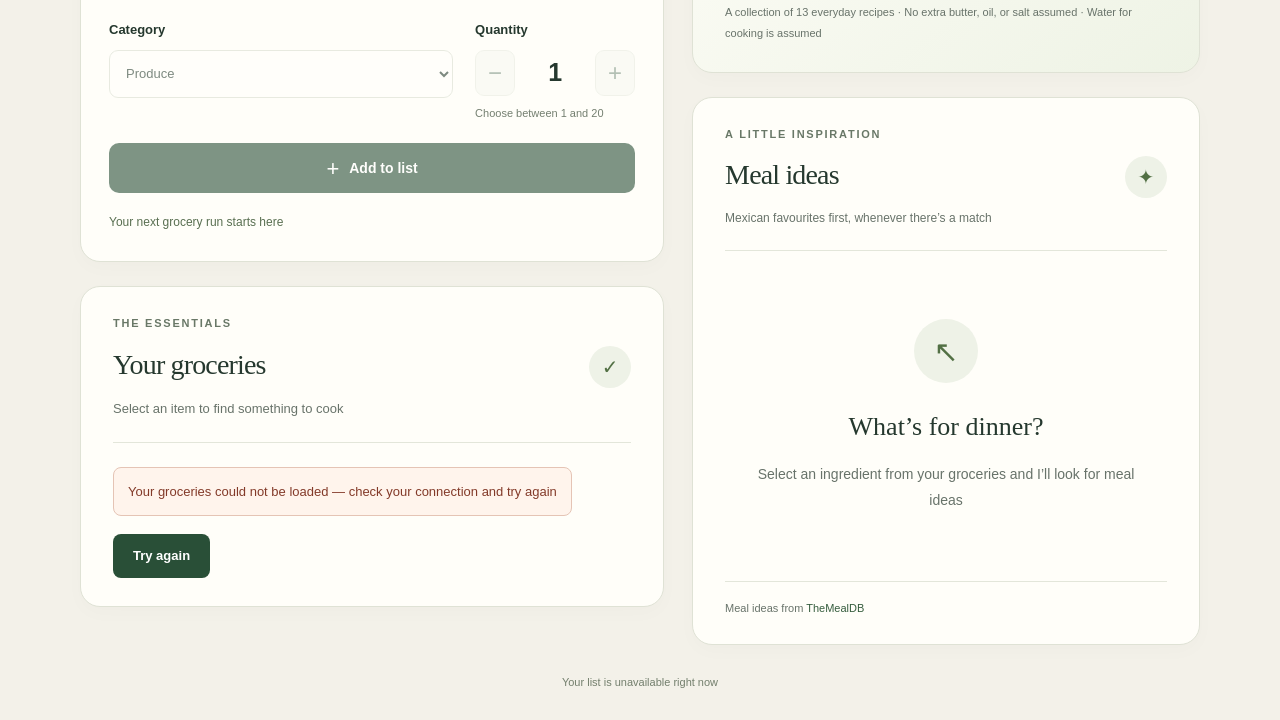
Test: a loading failure shows a retry instead of an empty list
(page scrolled)
Check: the message "Your groceries could not be loaded — check your connection and try again" is shown, box [113,467,572,516]
Check: the text "A fresh start" is not shown
Click the button "Try again". click: click(162, 556)
box: [113,534,210,578]
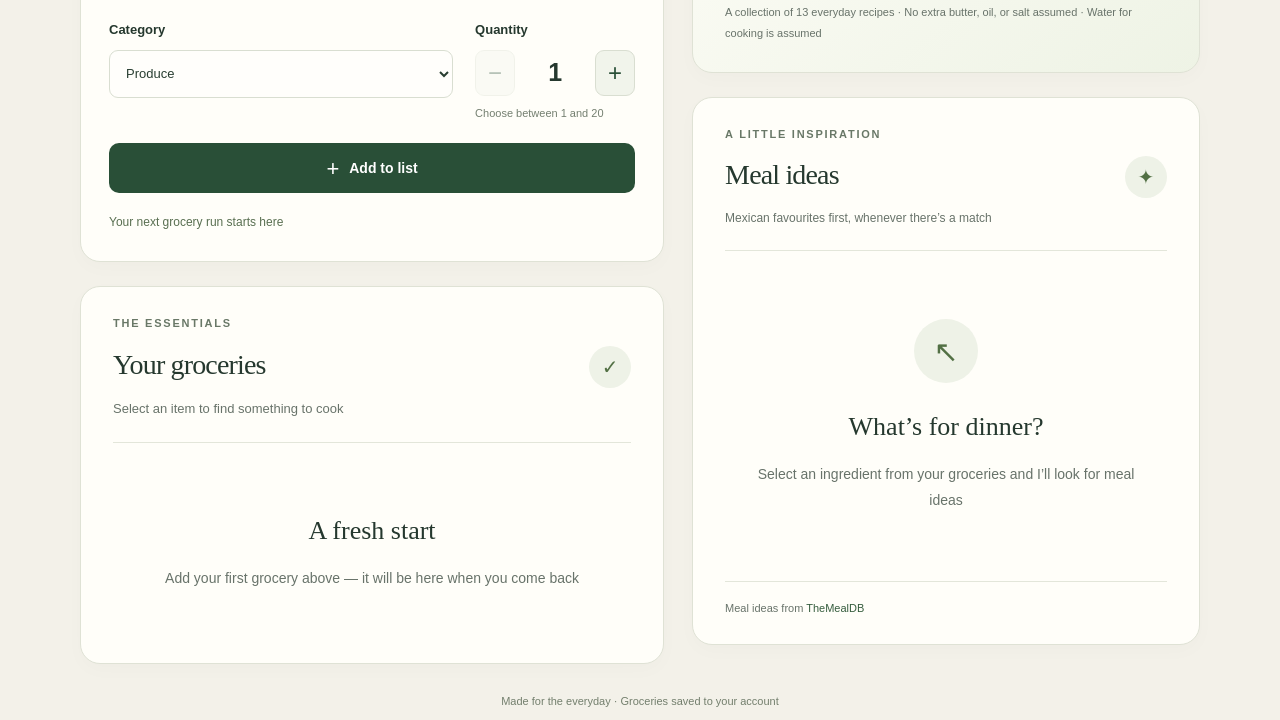
Check: the heading "A fresh start" is shown, box [308,516,436,545]
Check: the button "+ Add to list" is enabled, box [109,143,635,193]
